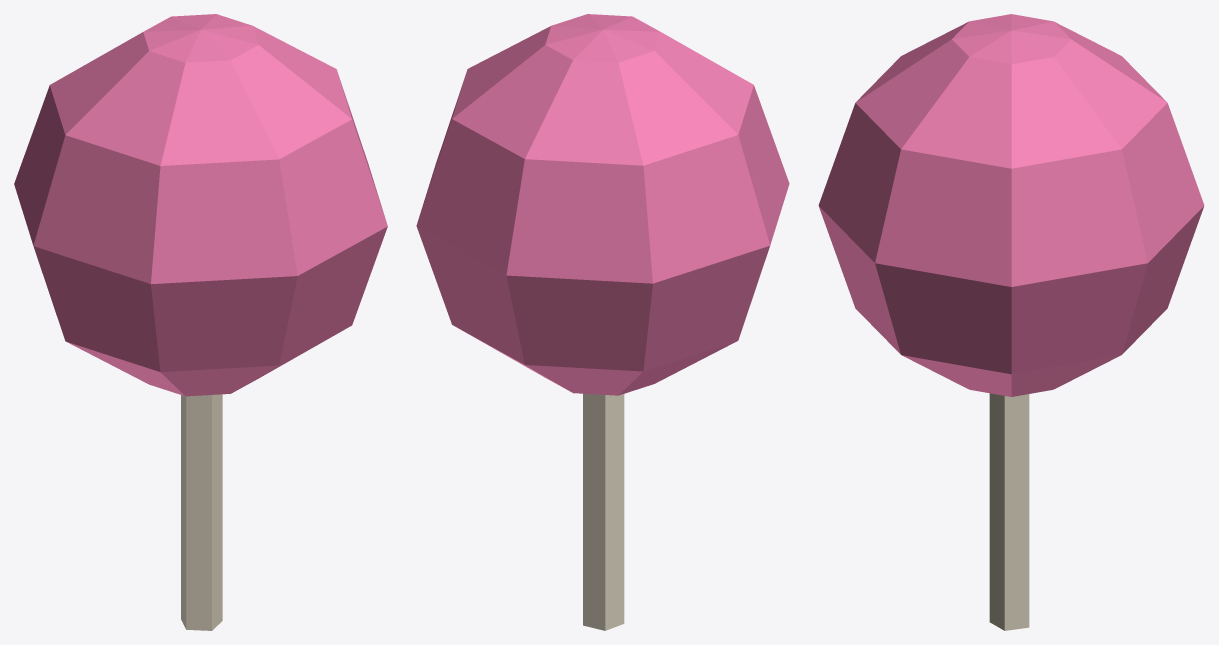
The model's file is land_tree_toy_lollipop_pink.glb.
The picture shows the model from 3 angles, left to right: view 1: azimuth 30°, elevation 25°; view 2: azimuth 150°, elevation 25°; view 3: azimuth 270°, elevation 25°; orthographic projection.
Bounding box in the file's own units: 4.4 × 7.44 × 4.4.
